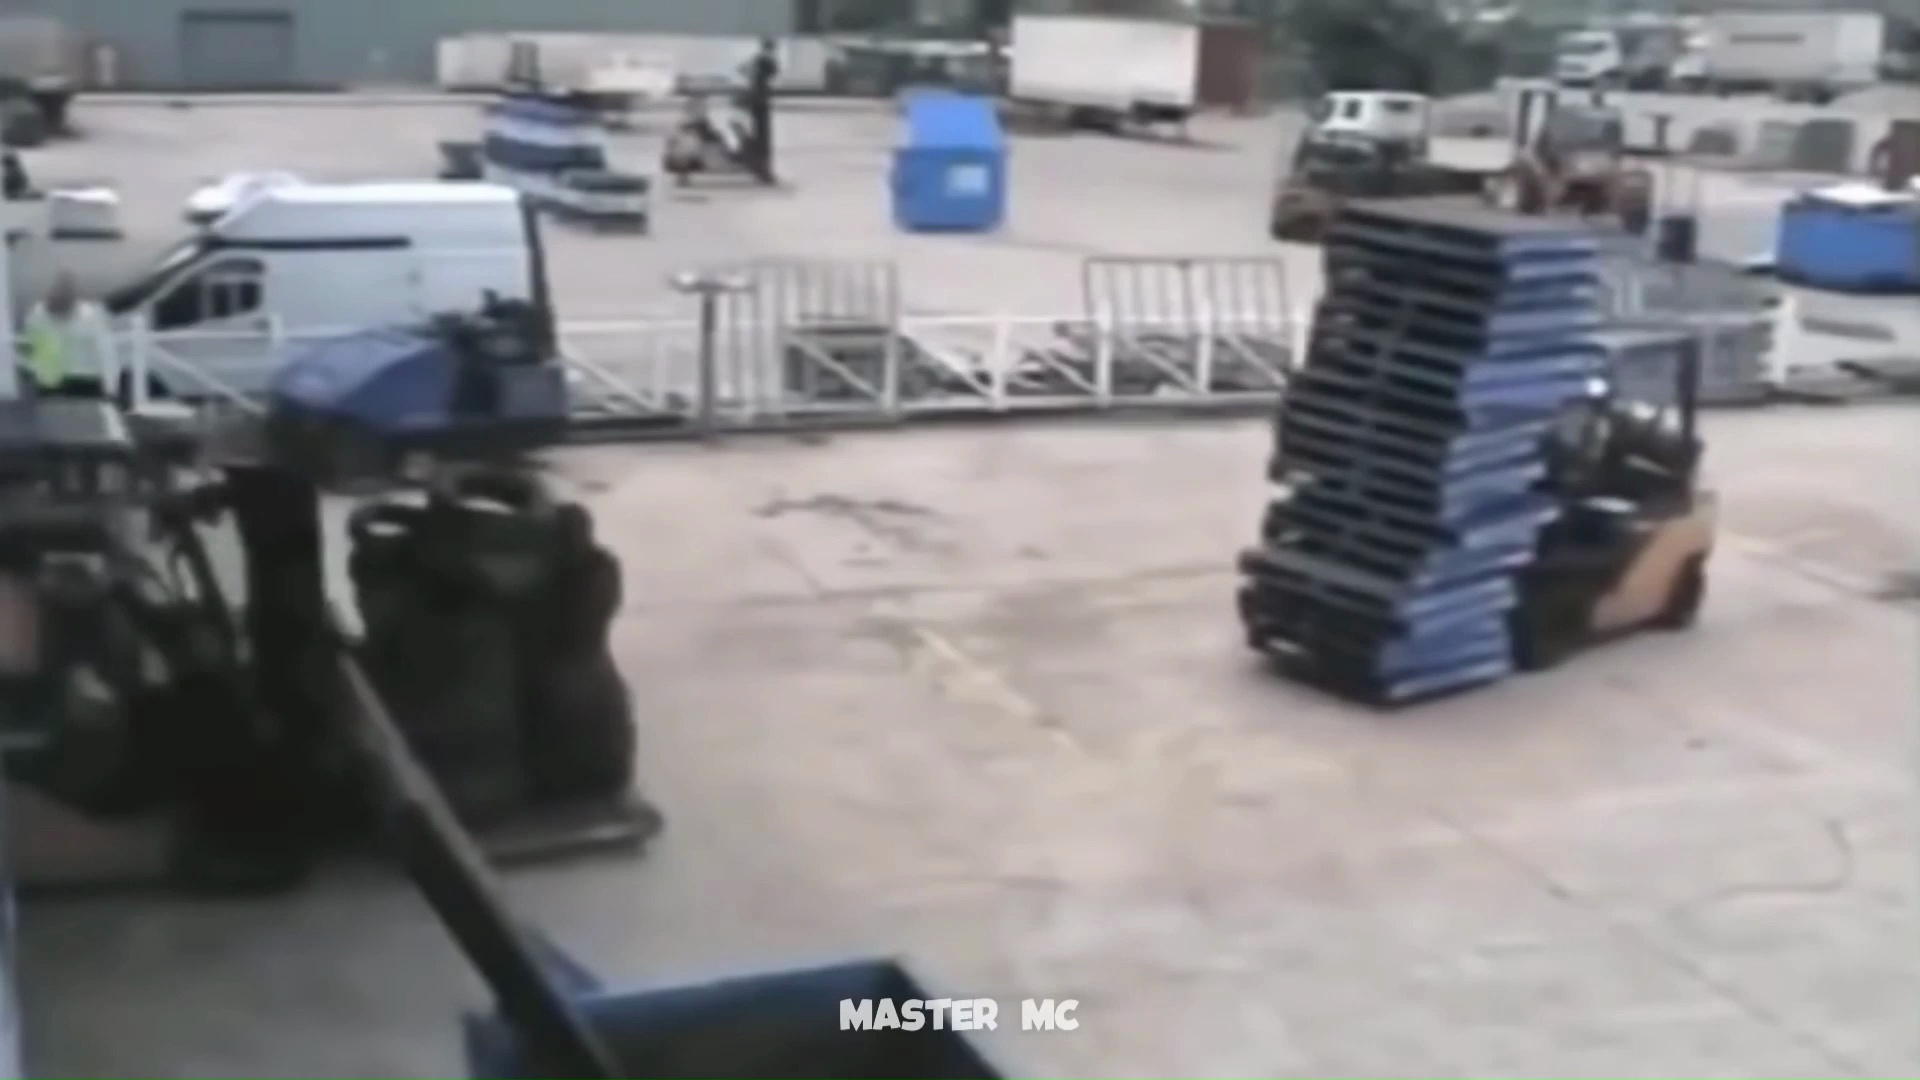forklift: (3, 396, 666, 884), (1226, 195, 1724, 711)
